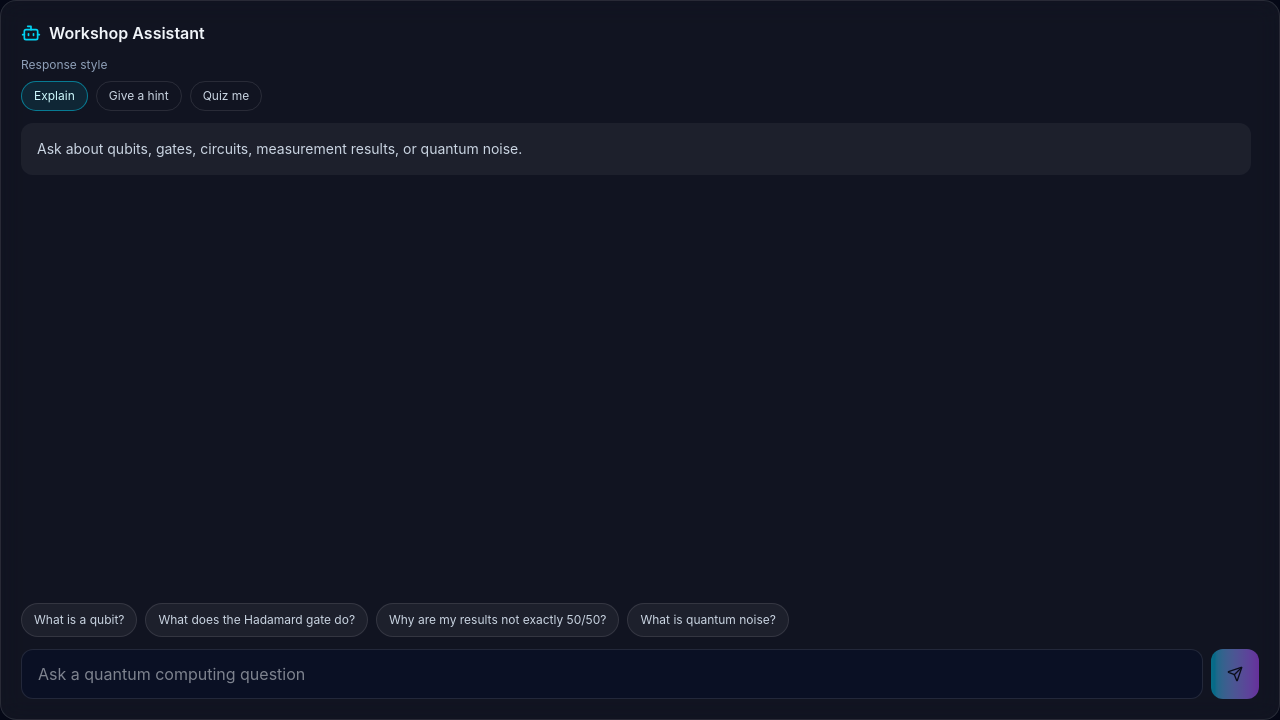
it: retries without inserting the user question twice
Click the button "What does the Hadamard gate do?" at x=257, y=620, box 146,603 -> 368,637
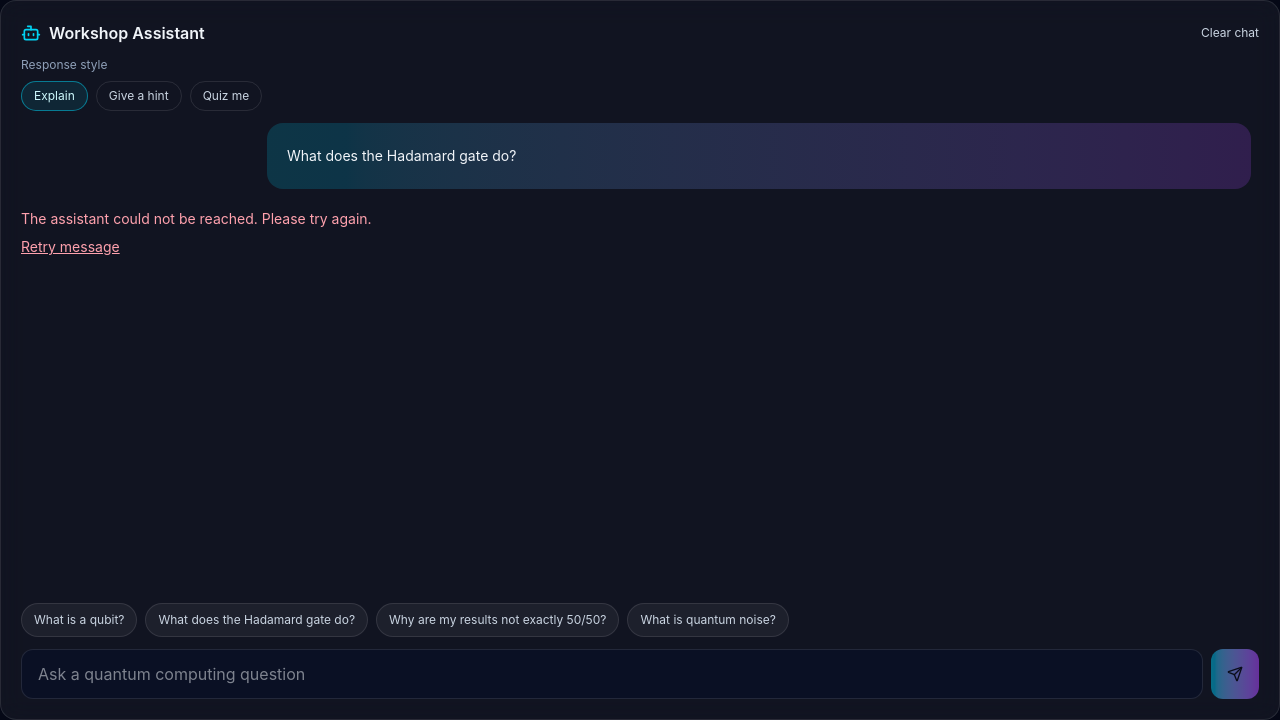
Expected: the message "The assistant could not be reached. Please try again. Retry message" is shown, 21,210 -> 372,257
Click the button "Retry message" at x=70, y=247, box 21,237 -> 120,257
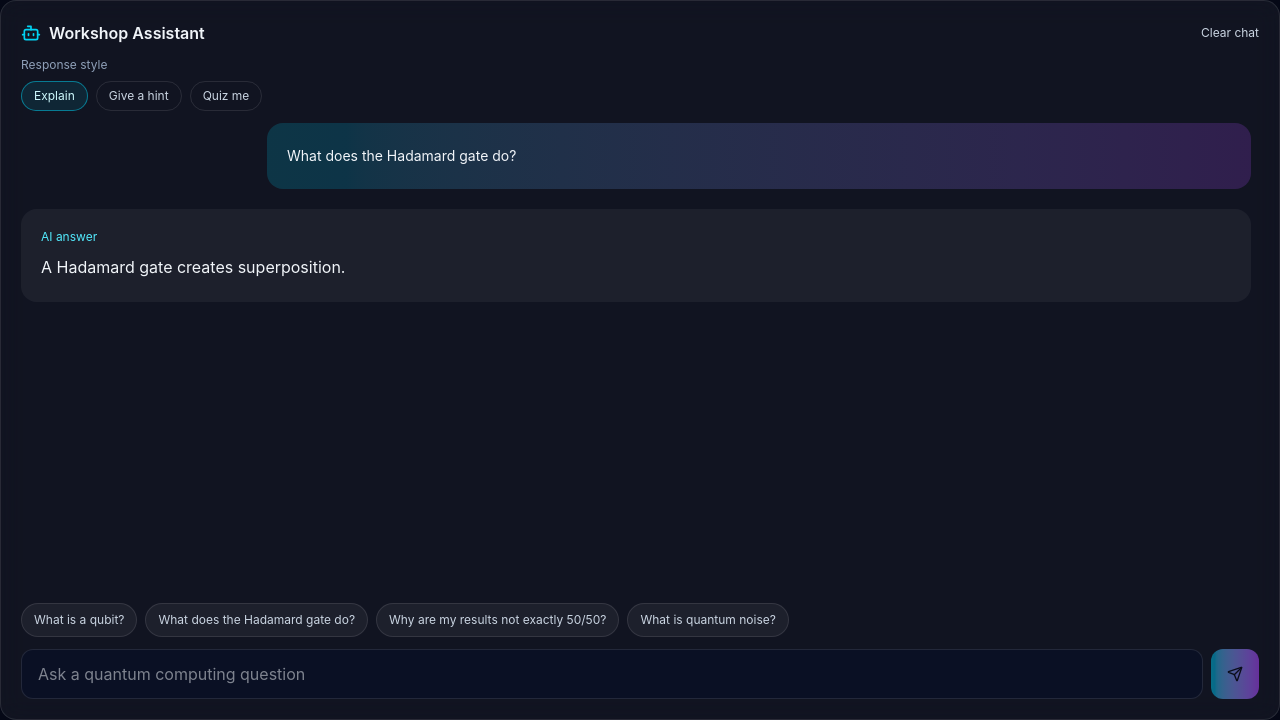
Expected: the element named "Assistant conversation" shows "What does the Hadamard gate do?", 287,147 -> 516,164
Expected: the text "A Hadamard gate creates superposition." is shown, 41,257 -> 346,277
